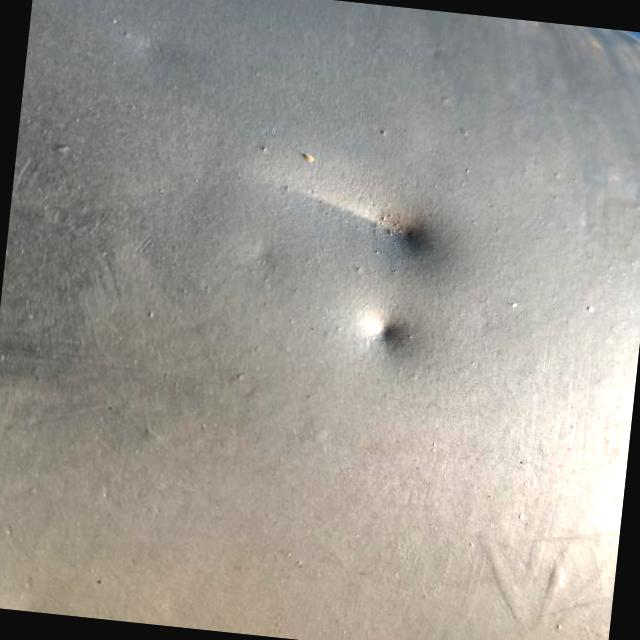dent: (234, 146, 468, 280), (324, 274, 444, 396)
